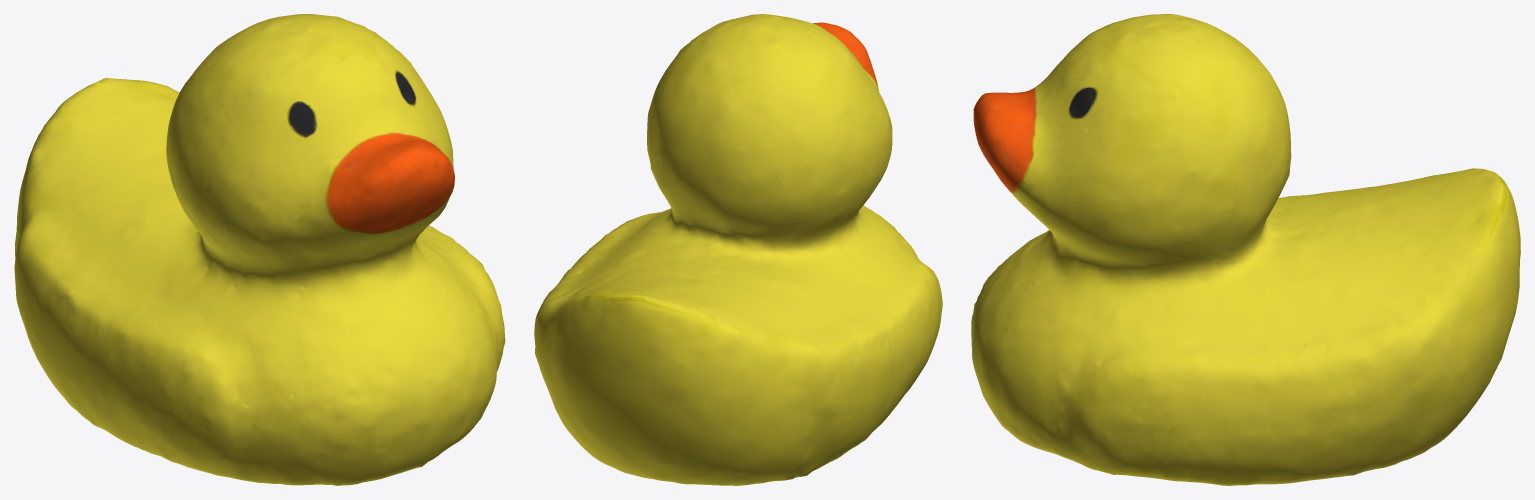
File: duck.dae
3 renders of one model, left to right at view 1: azimuth 30°, elevation 25°; view 2: azimuth 150°, elevation 25°; view 3: azimuth 270°, elevation 25°, orthographic. The views are drawn at different scales.
Visible parts, largest first — view 1: baked_mesh; view 2: baked_mesh; view 3: baked_mesh.
Boxes of the visible parts, x1,y1,x2,y2 form: baked_mesh: (14,14,505,485); baked_mesh: (534,14,942,485); baked_mesh: (971,14,1520,485).
Bounding box in the file's own units: 0.0833 × 0.1097 × 0.0876.
